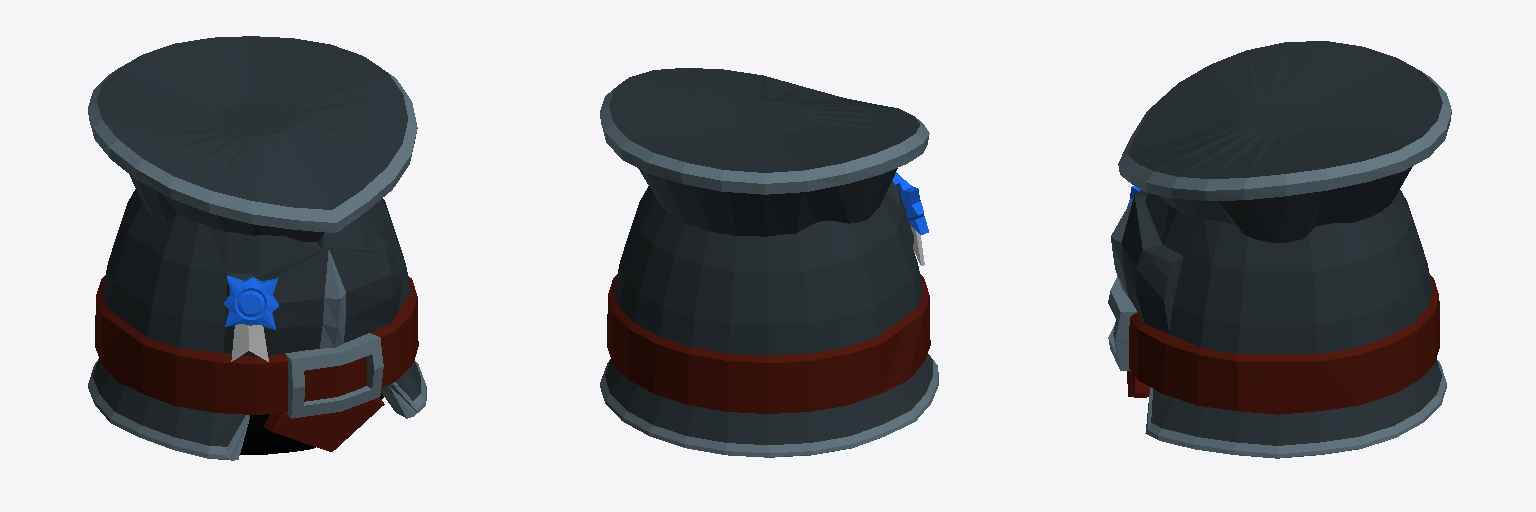
File: character_knightBody.obj
3 views of the same model, side by side, from view 1: azimuth 30°, elevation 25°; view 2: azimuth 150°, elevation 25°; view 3: azimuth 270°, elevation 25° (orthographic).
Visible parts, largest first — view 1: character_knightBody_Cube.006; view 2: character_knightBody_Cube.006; view 3: character_knightBody_Cube.006.
Boxes of the visible parts, x1,y1,x2,y2 form: character_knightBody_Cube.006: [88, 36, 426, 460]; character_knightBody_Cube.006: [600, 68, 938, 457]; character_knightBody_Cube.006: [1108, 41, 1451, 458].
Size of the model in its own units: 0.7684 by 0.7642 by 0.7797.